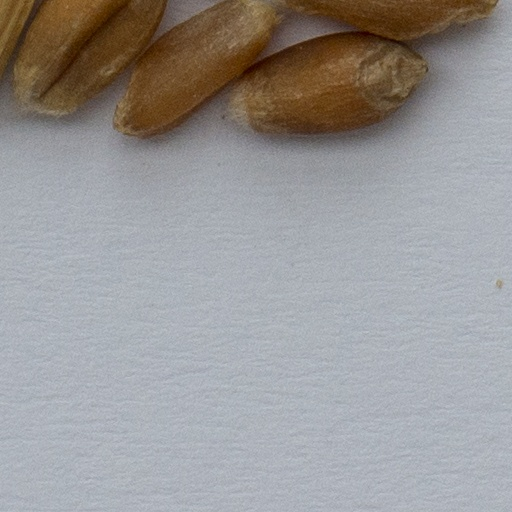Peel-poly: (0, 0, 36, 81)
